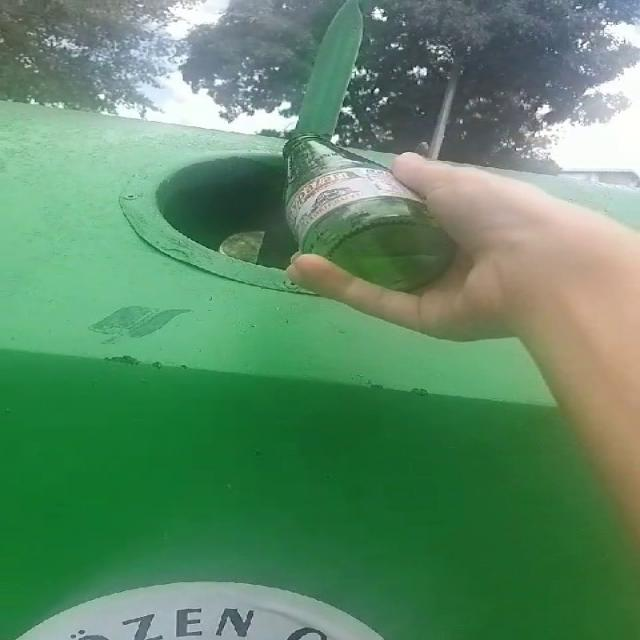glass: (284, 134, 453, 290)
